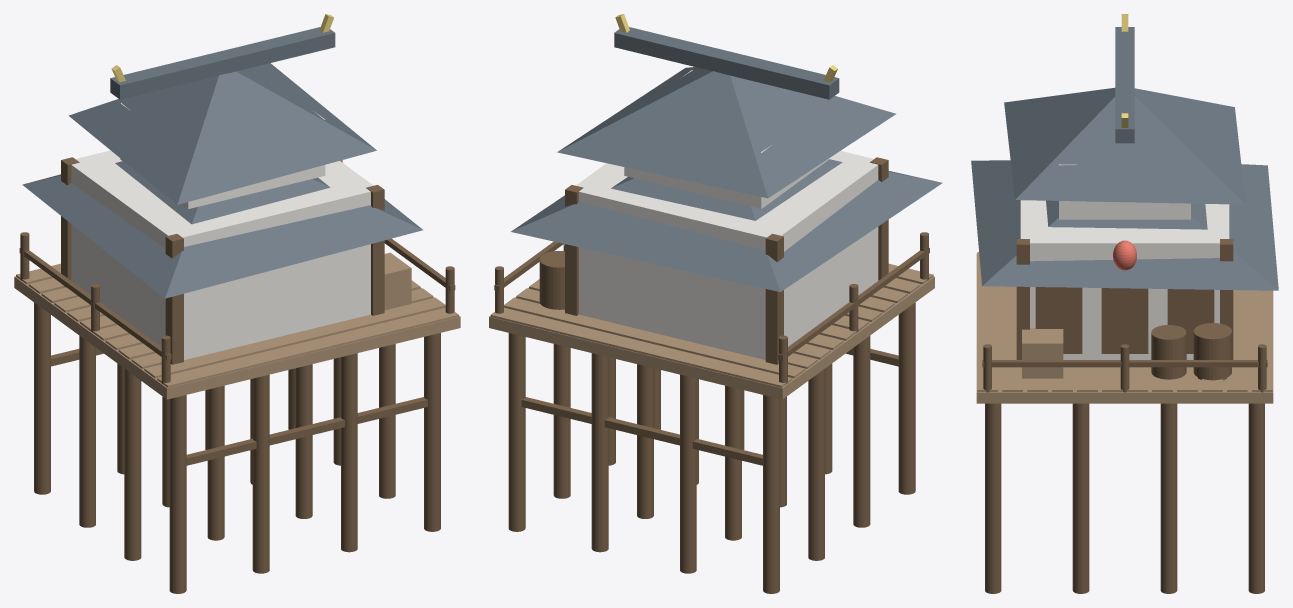
Rendered from waterfront_stilt_house_01.glb.
The picture shows the model from 3 angles, left to right: view 1: azimuth 30°, elevation 25°; view 2: azimuth 150°, elevation 25°; view 3: azimuth 270°, elevation 25°; orthographic projection. The views are drawn at different scales.
Parts seen in each view (by area): view 1: Cube.017, Cone.001, Cone, Cube.002, Cube.026, Cube.003, Cylinder, Cylinder.004, Cube.004, Cylinder.001, Cylinder.012, Cylinder.008 (+16 smaller); view 2: Cube.017, Cone.001, Cone, Cube.002, Cube.026, Cube.014, Cylinder.011, Cylinder.015, Cube.013, Cylinder.001, Cylinder.003, Cylinder (+15 smaller); view 3: Cone.001, Cone, Cube.017, Cube.002, Cylinder.013, Cylinder.014, Cylinder.012, Cylinder.015, Cube.023, Cube.022, Cube.025, Cube.026 (+18 smaller).
Part boxes in pixels (x1,y1,x2,y2): Cube.017: (71, 150, 373, 359); Cone.001: (69, 63, 376, 204); Cone: (22, 161, 422, 298); Cube.002: (14, 276, 460, 399); Cube.026: (110, 27, 335, 99); Cube.003: (157, 307, 458, 387); Cylinder: (169, 395, 186, 593); Cylinder.004: (252, 374, 269, 573); Cube.004: (144, 297, 445, 378); Cylinder.001: (124, 368, 141, 560); Cylinder.012: (424, 333, 440, 531); Cylinder.008: (341, 353, 357, 552); Cube.017: (576, 151, 878, 359); Cone.001: (557, 67, 895, 198); Cone: (511, 159, 942, 291); Cube.002: (489, 276, 934, 399); Cube.026: (614, 27, 839, 99); Cube.014: (490, 307, 792, 387); Cylinder.011: (591, 353, 608, 552); Cylinder.015: (508, 333, 525, 531); Cube.013: (504, 297, 805, 378); Cylinder.001: (853, 336, 870, 527); Cylinder.003: (763, 395, 779, 593); Cylinder: (898, 302, 915, 494); Cone.001: (1004, 87, 1245, 204); Cone: (971, 160, 1278, 290); Cube.017: (1020, 200, 1229, 359); Cube.002: (976, 253, 1273, 403); Cylinder.013: (1072, 403, 1089, 593); Cylinder.014: (1160, 403, 1177, 593); Cylinder.012: (985, 403, 1001, 593); Cylinder.015: (1248, 403, 1264, 593); Cube.023: (1101, 288, 1148, 353); Cube.022: (1035, 287, 1082, 353); Cube.025: (1059, 164, 1190, 219); Cube.026: (1115, 27, 1134, 143).
Bounding box in the file's own units: 6.1 × 9.23 × 5.6.
